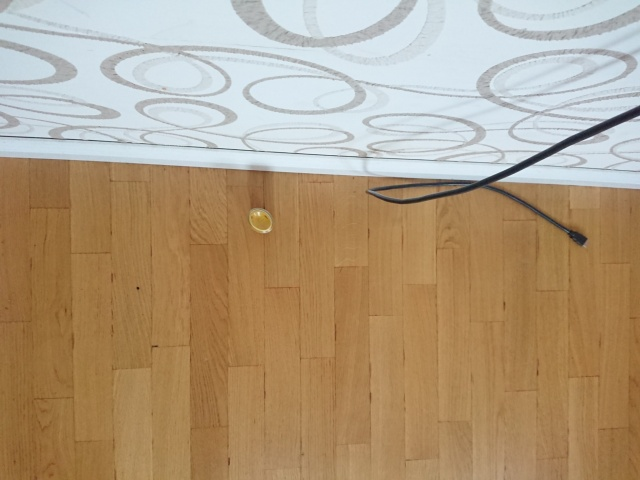Kotanyi Curry Spices Mix 70g: (246, 205, 277, 237)
